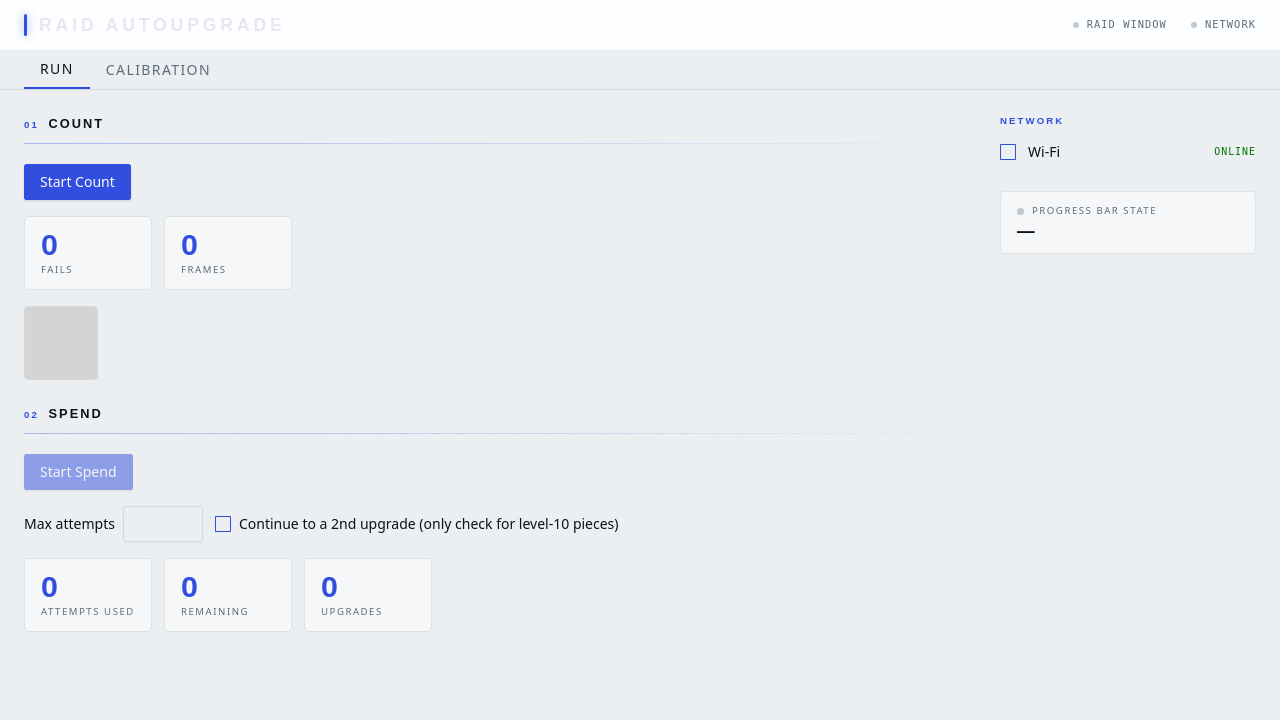
Scenario: App › disables both Count and Spend controls while a job runs
This screenshot has width=1280, height=720.
Expected: the text "Wi-Fi" is shown, [1028,142,1060,161]
Click the button "Start Count". click: {"x": 77, "y": 182}
box: [24,164,131,200]
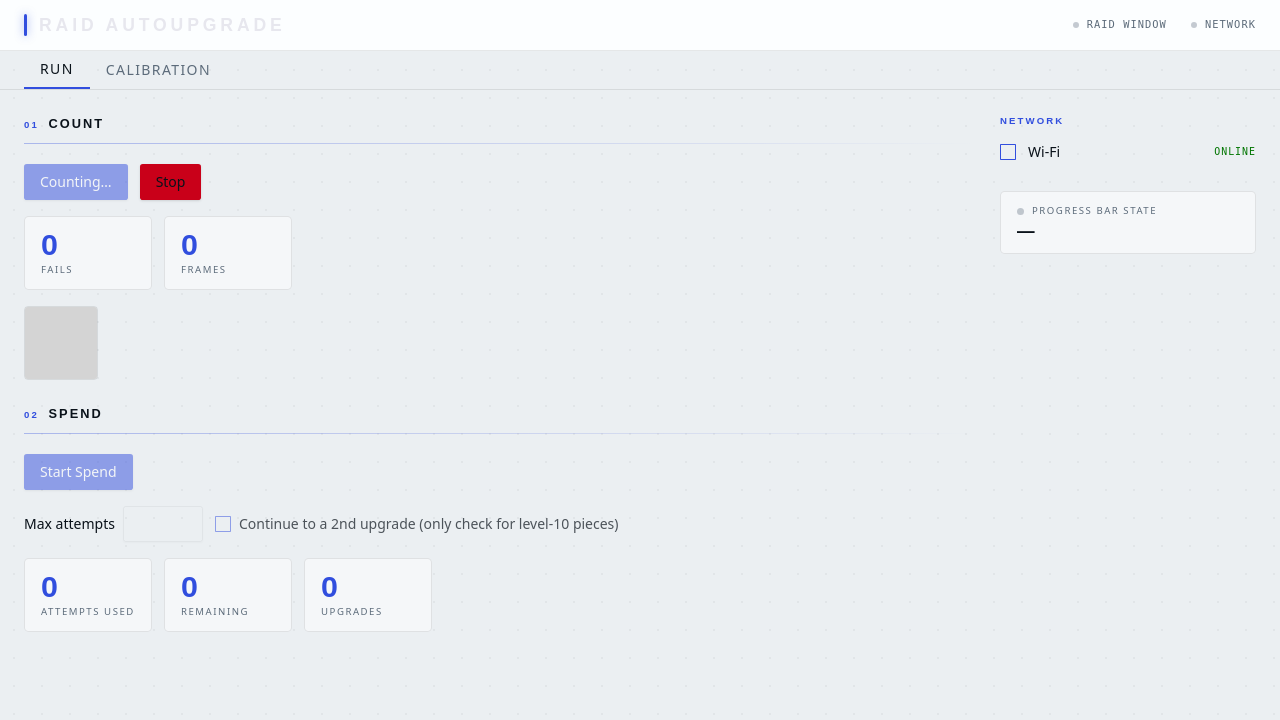
Expected: the button "Start Spend" is disabled, [24,454,132,490]
Expected: the button "Counting…" is disabled, [24,164,128,200]
Expected: the checkbox named "continue to a 2nd upgrade" is disabled, [215,516,231,532]
